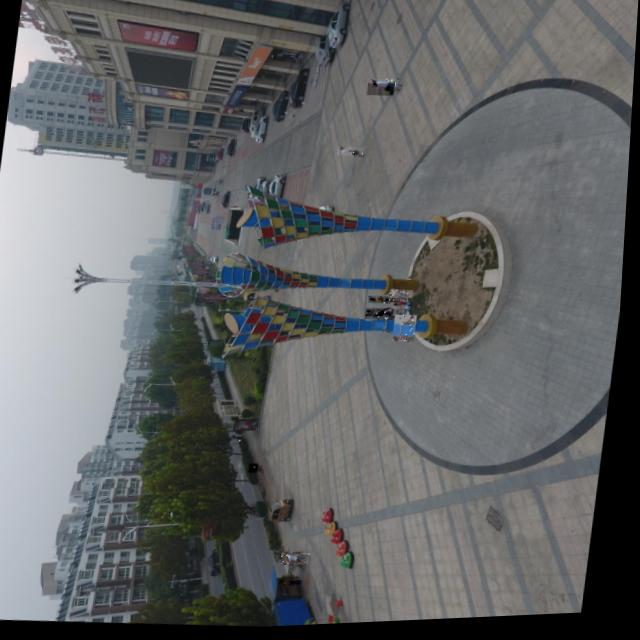Person: (396, 317, 421, 345), (367, 84, 396, 99), (368, 309, 398, 323), (287, 553, 317, 567), (370, 79, 401, 91), (339, 147, 367, 159), (372, 297, 404, 307), (394, 291, 418, 302), (286, 580, 308, 589), (232, 434, 249, 443), (394, 305, 413, 312), (254, 464, 264, 474)
